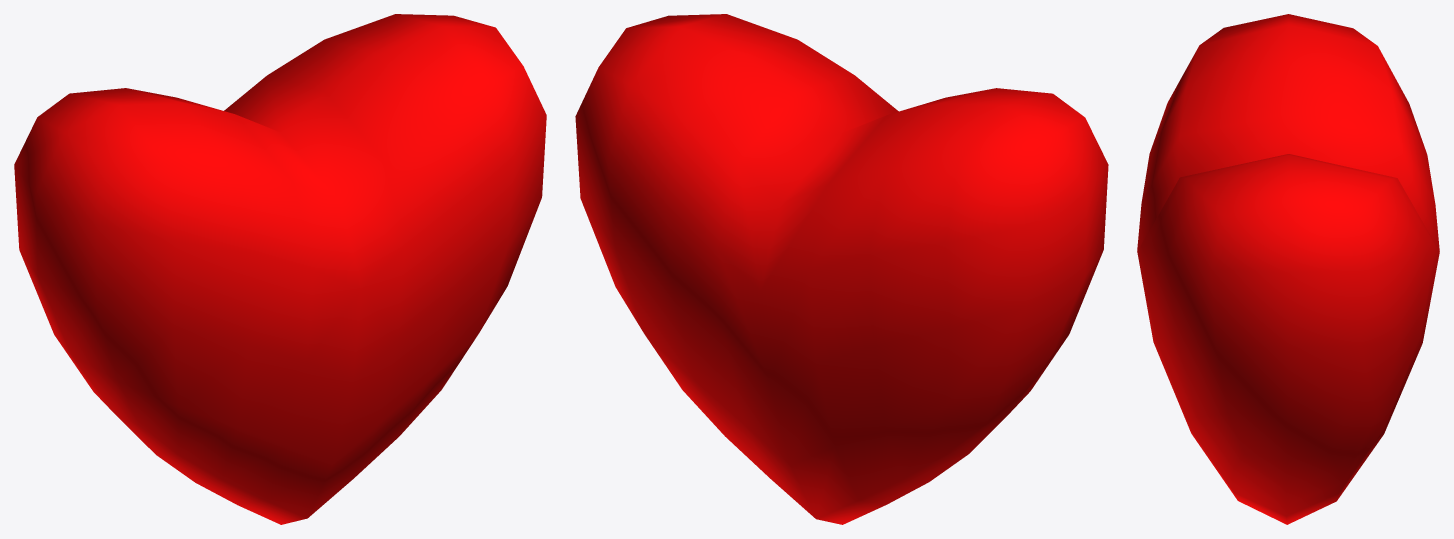
3 views of the same model, side by side, from view 1: azimuth 30°, elevation 25°; view 2: azimuth 150°, elevation 25°; view 3: azimuth 270°, elevation 25° (orthographic). The views are drawn at different scales.
Parts seen in each view (by area): view 1: 立方体; view 2: 立方体; view 3: 立方体.
Part boxes in pixels (left/top/right/bottom): 立方体: left=14, top=14, right=546, bottom=524; 立方体: left=575, top=14, right=1108, bottom=524; 立方体: left=1137, top=14, right=1439, bottom=524.
Bounding box in the file's own units: 279 × 250 × 161.
Materials: 1 (1 with a texture image).
